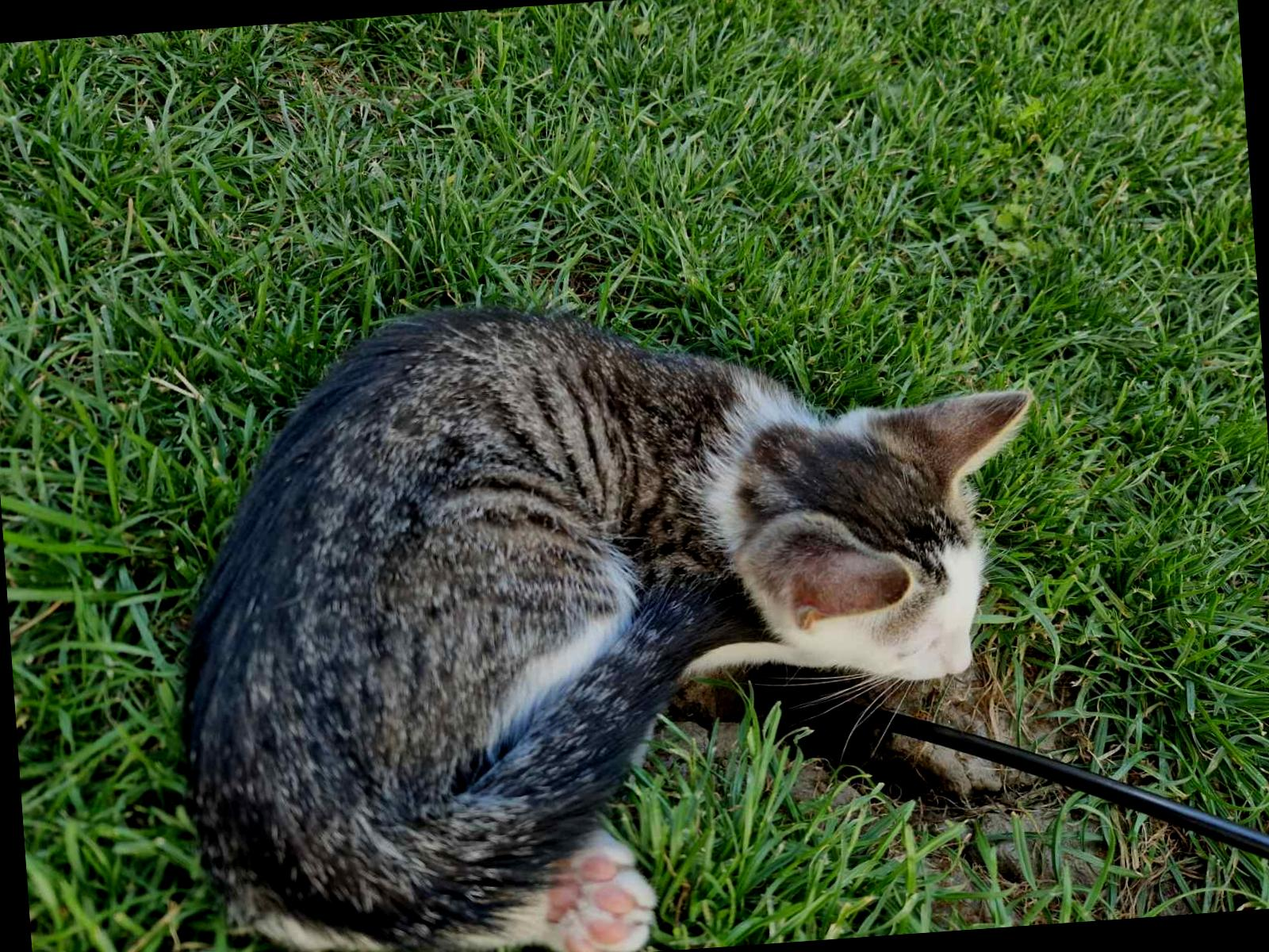macka: (147, 262, 1072, 952)
